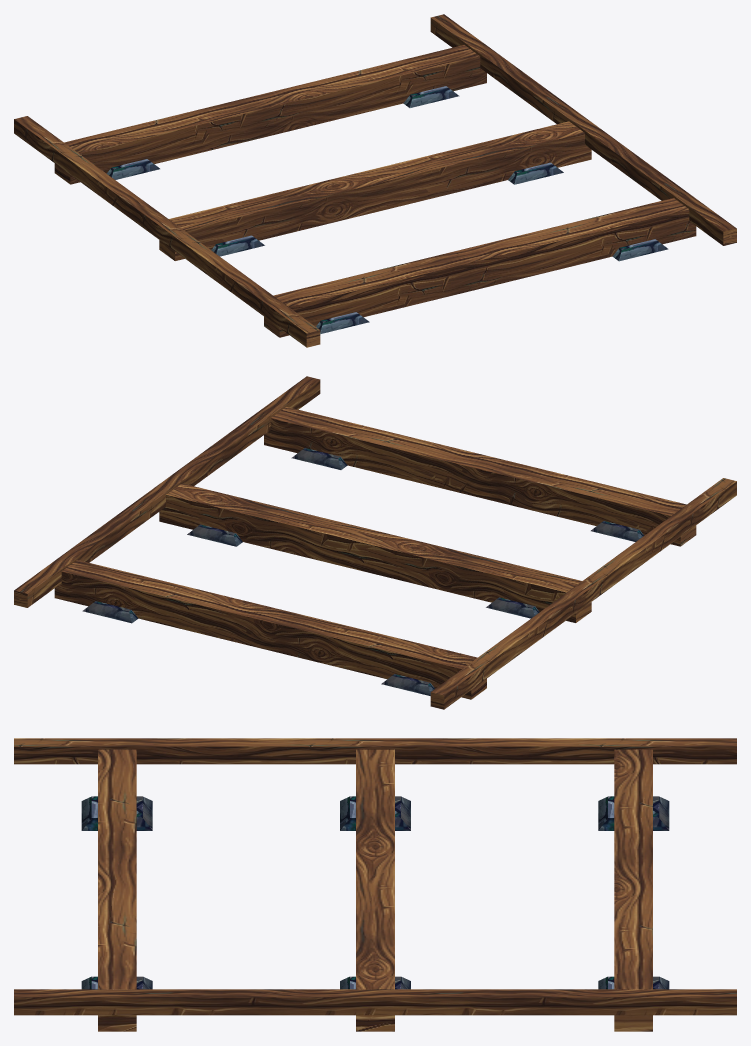
File: pile-boards.glb
3 renders of one model, top to bottom at view 1: azimuth 30°, elevation 25°; view 2: azimuth 150°, elevation 25°; view 3: azimuth 270°, elevation 25°, orthographic. The views are drawn at different scales.
Parts seen in each view (by area): view 1: pile-boards; view 2: pile-boards; view 3: pile-boards.
Part boxes in pixels (left/top/right/bottom): pile-boards: left=14, top=14, right=736, bottom=347; pile-boards: left=14, top=376, right=736, bottom=709; pile-boards: left=14, top=738, right=736, bottom=1031.
Size of the model in its own units: 1.9 by 0.13 by 2.24.
Materials: 2 (2 with a texture image).
